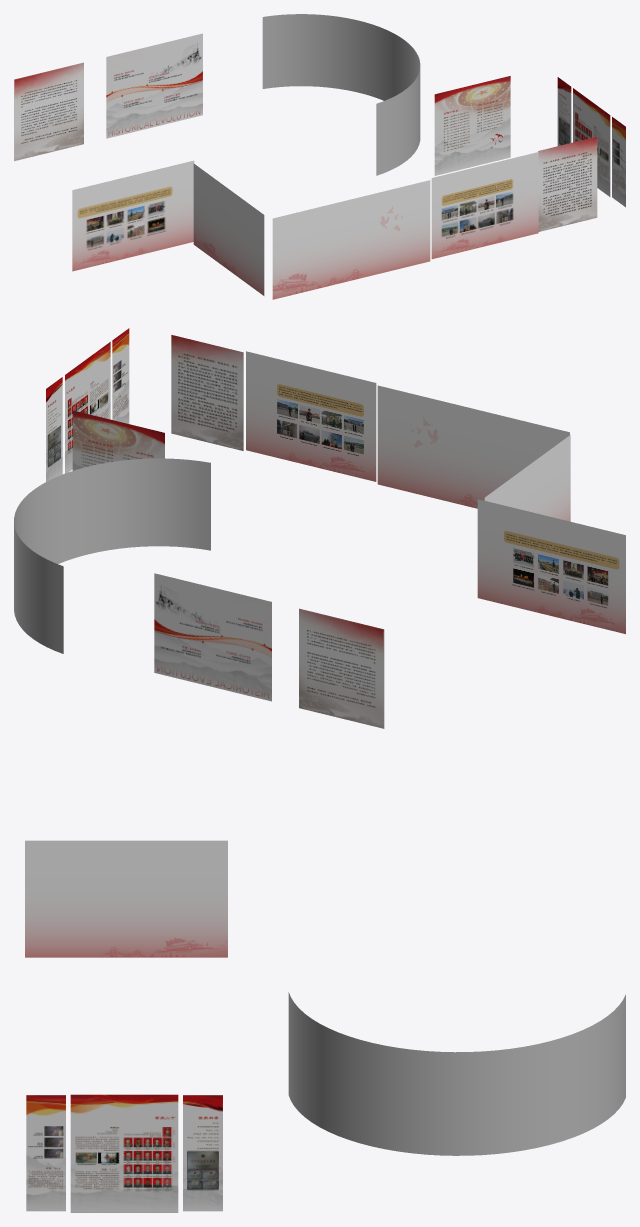
3 views of the same model, one above another, from view 1: azimuth 30°, elevation 25°; view 2: azimuth 150°, elevation 25°; view 3: azimuth 270°, elevation 25° (orthographic). The views are drawn at different scales.
Visible parts, largest first — view 1: 6中队_发展历程, 6中队_建设成就, 6中队_官兵风采, 6中队_重大任务, 6中队_历史沿革, 6中队_历任主官, 6中队_军营文化, 6中队_前言, 6中队_未来寄语, 6中队_历史荣誉中, 6中队_历史荣誉右, 6中队_历史荣誉左; view 2: 6中队_发展历程, 6中队_官兵风采, 6中队_建设成就, 6中队_重大任务, 6中队_历史沿革, 6中队_前言, 6中队_未来寄语, 6中队_军营文化, 6中队_历任主官, 6中队_历史荣誉中, 6中队_历史荣誉左, 6中队_历史荣誉右; view 3: 6中队_发展历程, 6中队_军营文化, 6中队_历史荣誉中, 6中队_历史荣誉右, 6中队_历史荣誉左.
Boxes of the visible parts, <box> form: 6中队_发展历程: <box>262,14,420,175</box>; 6中队_建设成就: <box>272,180,430,299</box>; 6中队_官兵风采: <box>72,160,194,271</box>; 6中队_重大任务: <box>431,152,538,259</box>; 6中队_历史沿革: <box>106,33,202,138</box>; 6中队_历任主官: <box>434,76,510,175</box>; 6中队_军营文化: <box>193,163,264,295</box>; 6中队_前言: <box>14,62,83,161</box>; 6中队_未来寄语: <box>538,136,597,231</box>; 6中队_历史荣誉中: <box>573,88,610,196</box>; 6中队_历史荣誉右: <box>612,117,625,207</box>; 6中队_历史荣誉左: <box>557,77,571,145</box>; 6中队_发展历程: <box>14,458,210,653</box>; 6中队_官兵风采: <box>477,499,625,634</box>; 6中队_建设成就: <box>377,385,569,508</box>; 6中队_重大任务: <box>246,351,376,481</box>; 6中队_历史沿革: <box>154,573,271,701</box>; 6中队_前言: <box>299,608,384,728</box>; 6中队_未来寄语: <box>171,335,243,450</box>; 6中队_军营文化: <box>484,435,570,521</box>; 6中队_历任主官: <box>72,410,164,470</box>; 6中队_历史荣誉中: <box>65,342,110,473</box>; 6中队_历史荣誉左: <box>46,377,62,481</box>; 6中队_历史荣誉右: <box>112,328,129,423</box>; 6中队_发展历程: <box>288,992,625,1155</box>; 6中队_军营文化: <box>25,840,227,957</box>; 6中队_历史荣誉中: <box>70,1094,178,1212</box>; 6中队_历史荣誉右: <box>26,1095,65,1211</box>; 6中队_历史荣誉左: <box>183,1095,222,1211</box>.
Bounding box in the file's own units: 1029 × 170 × 789.
